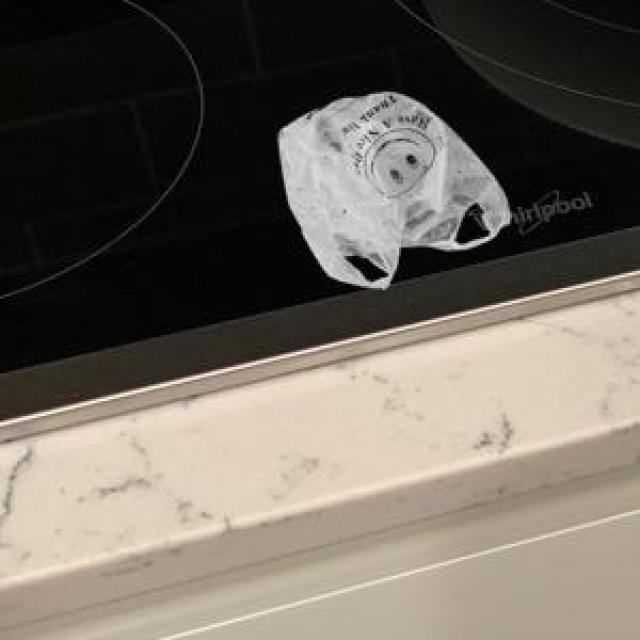waste: (278, 91, 511, 288)
